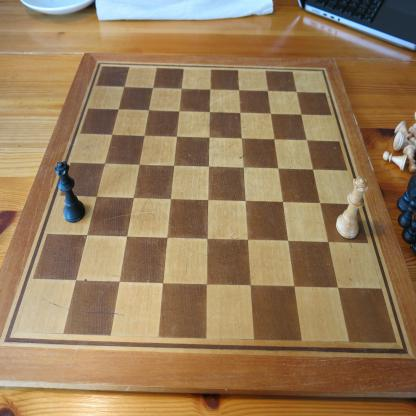black-pawn: (397, 198, 416, 229), (401, 213, 415, 246)
black-queen: (53, 160, 86, 224)
white-pawn: (382, 150, 408, 172), (402, 144, 416, 174)
white-queen: (335, 176, 369, 240)
